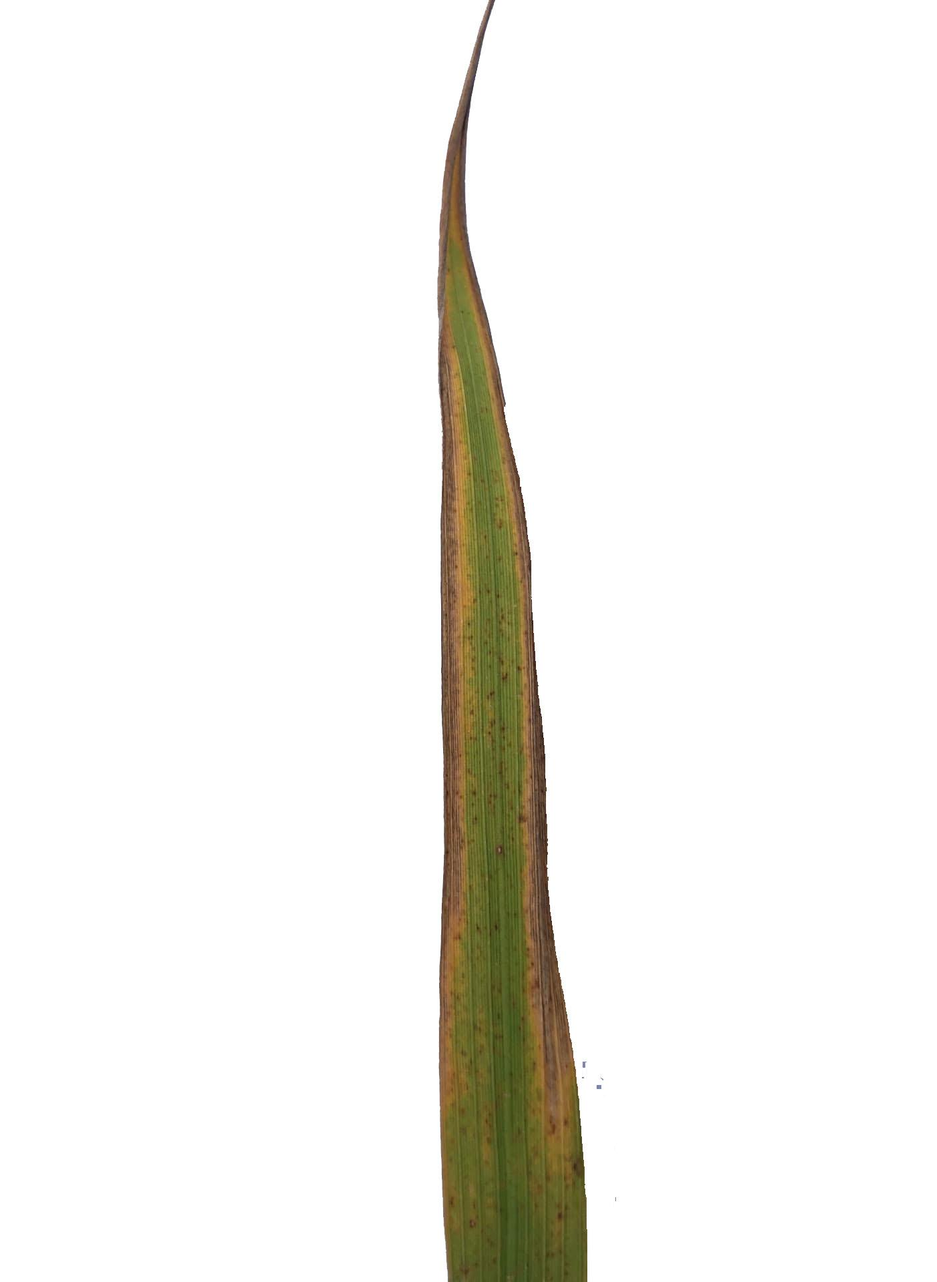Rice blast: (380, 227, 491, 948), (511, 401, 597, 1212)
Tungro: (444, 925, 507, 1272)
